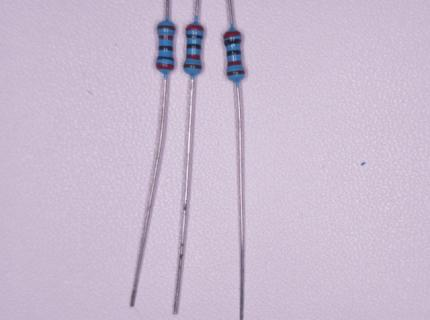Black band: (224, 39, 242, 46), (227, 50, 241, 57), (158, 45, 173, 51), (186, 34, 203, 39), (187, 43, 201, 49), (156, 56, 174, 60)
Brown band: (226, 70, 245, 76), (156, 25, 175, 30), (184, 64, 202, 69)
Red band: (223, 31, 241, 39), (156, 63, 174, 70), (186, 25, 204, 31), (227, 60, 242, 66), (158, 35, 173, 40), (186, 54, 201, 59)
